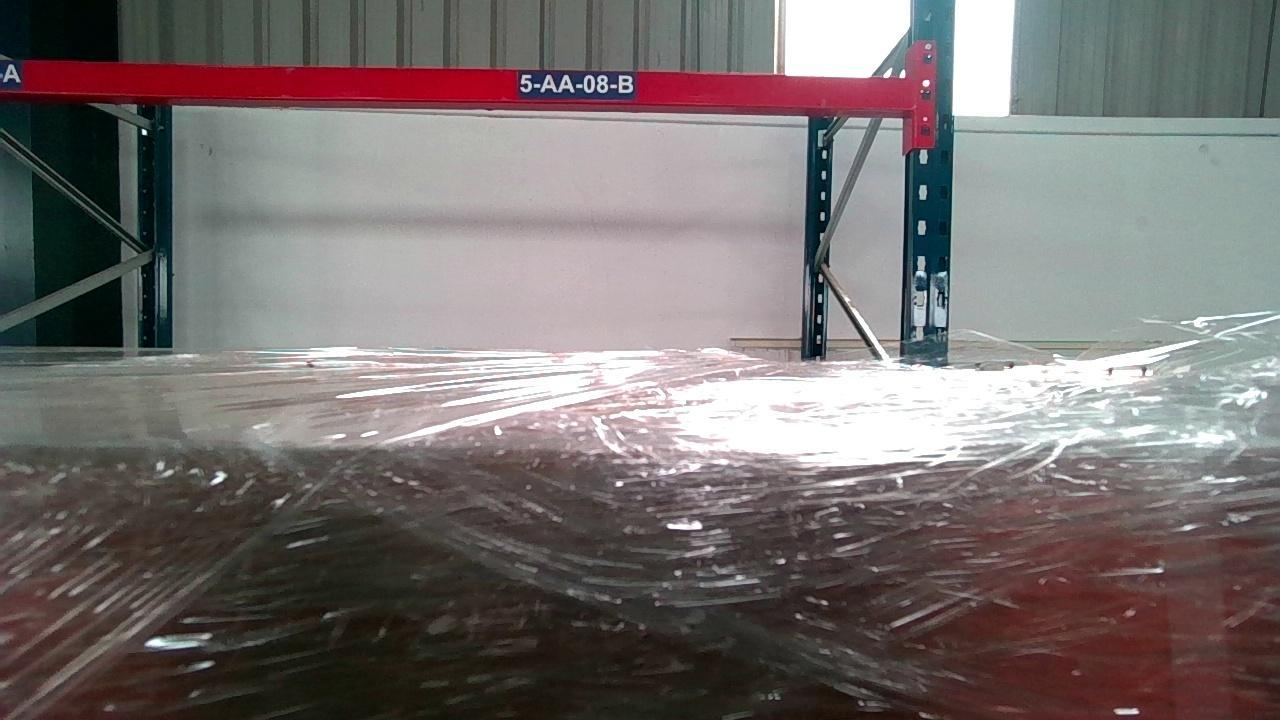h_rack: (0, 54, 908, 114)
